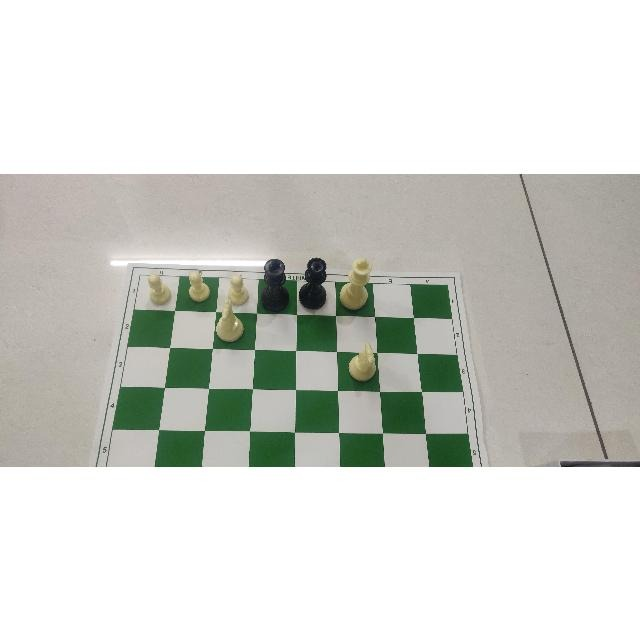black-king: (259, 255, 292, 312)
black-queen: (298, 256, 330, 308)
white-king: (338, 257, 377, 310)
white-knight: (346, 339, 380, 382), (215, 298, 243, 345)
white-pawn: (145, 272, 171, 307), (185, 269, 211, 303), (226, 273, 250, 305)
